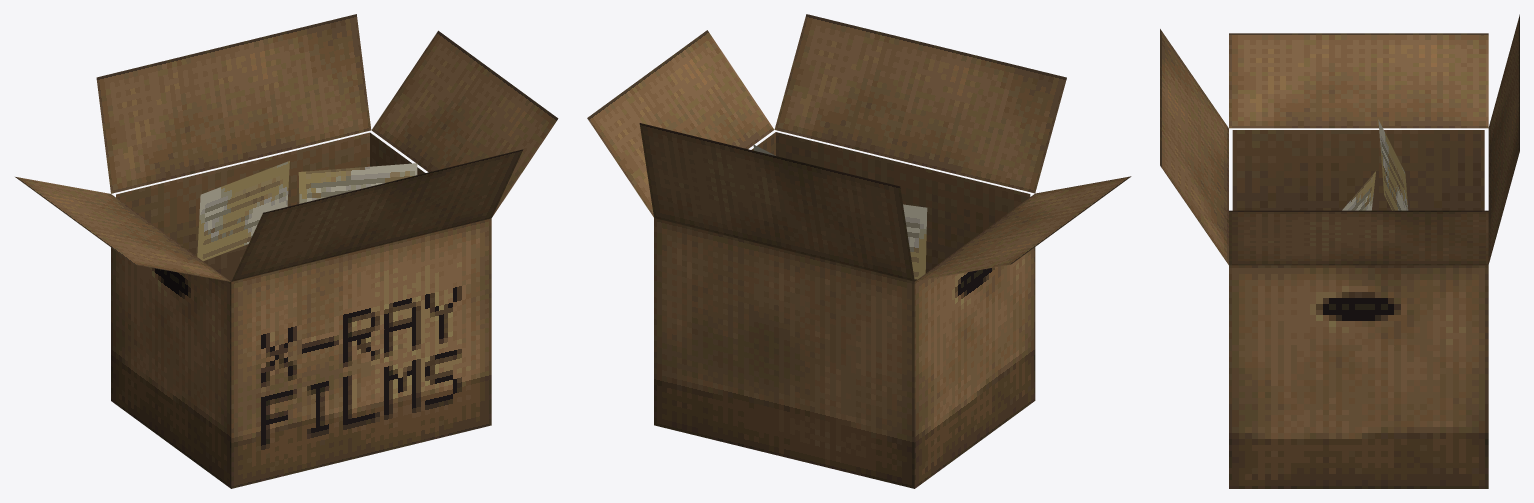
The model's file is cardboard_box_open.glb.
3 renders of one model, left to right at view 1: azimuth 30°, elevation 25°; view 2: azimuth 150°, elevation 25°; view 3: azimuth 270°, elevation 25°, orthographic. The views are drawn at different scales.
Visible parts, largest first — view 1: cardboard_box_open; view 2: cardboard_box_open; view 3: cardboard_box_open.
Boxes of the visible parts, x1,y1,x2,y2 form: cardboard_box_open: [15, 14, 558, 488]; cardboard_box_open: [587, 14, 1131, 488]; cardboard_box_open: [1160, 14, 1519, 488].
Size of the model in its own units: 0.814 by 0.5741 by 0.5544.
1 material, 1 textured.
